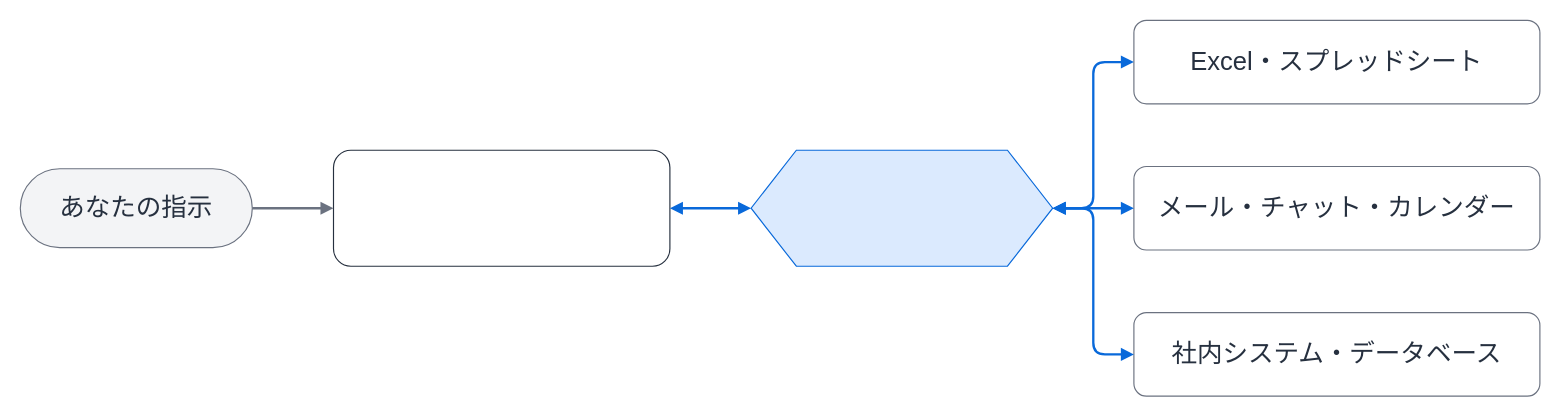
Image size: 1560x416. Some labels were removed from this diagram. Each missing label, with the centre of its shape:
AIアシスタント Claude / ChatGPT など: pixel 501 207
MCP 共通の差し込み口: pixel 901 207
